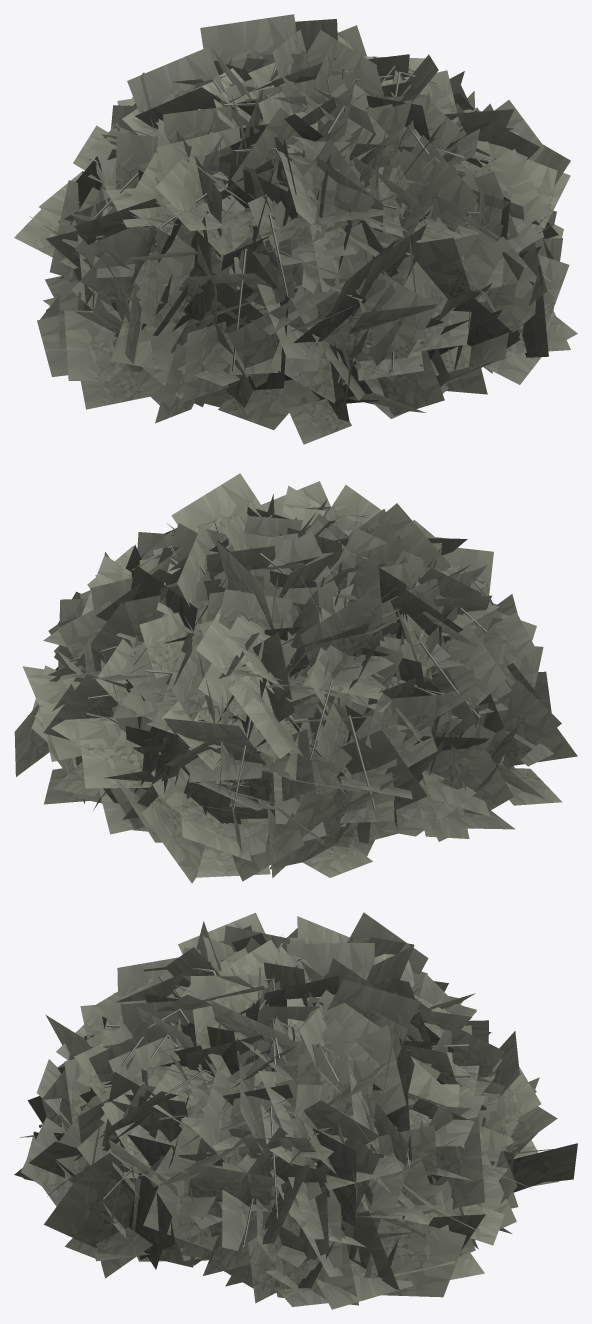
Rendered from bursage_a.glb.
3 renders of one model, top to bottom at view 1: azimuth 30°, elevation 25°; view 2: azimuth 150°, elevation 25°; view 3: azimuth 270°, elevation 25°, orthographic. The views are drawn at different scales.
Visible parts, largest first — view 1: bursage_a; view 2: bursage_a; view 3: bursage_a.
Boxes of the visible parts, x1=… form: bursage_a: x1=14, y1=14, x2=577, y2=444; bursage_a: x1=14, y1=473, x2=577, y2=883; bursage_a: x1=14, y1=912, x2=577, y2=1309.
Bounding box in the file's own units: 0.9232 × 0.4628 × 0.9402.
Materials: 2 (1 with a texture image).
